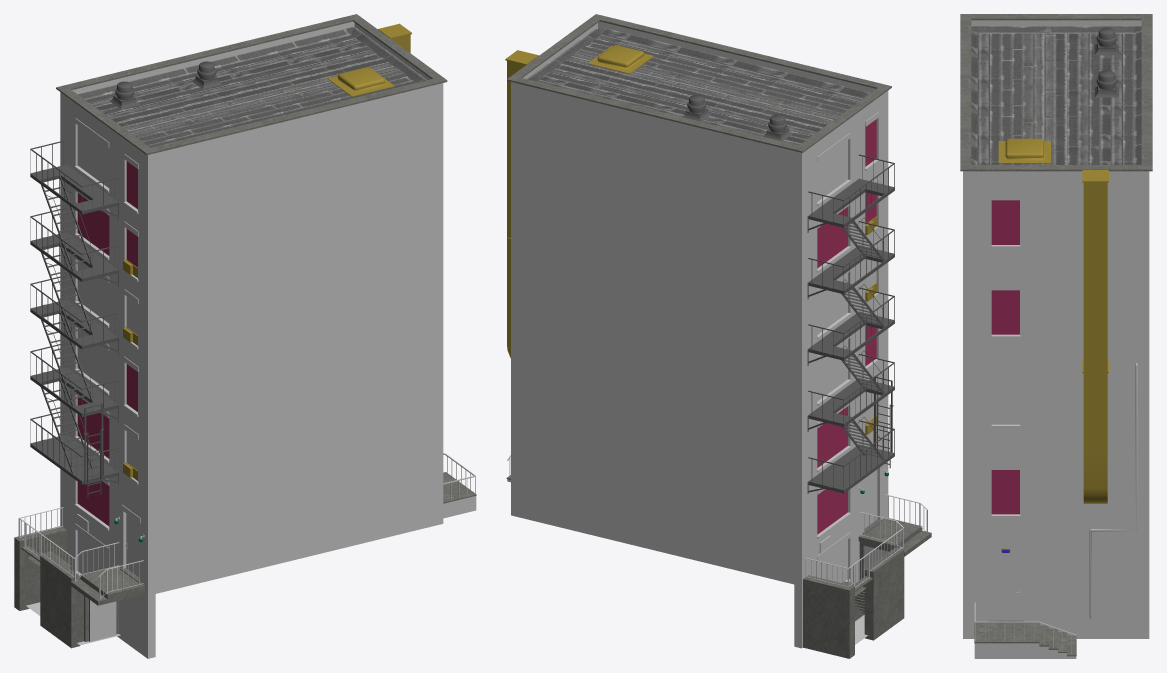
File: mcp_building_14_LOD_0.FBX
3 views of the same model, side by side, from view 1: azimuth 30°, elevation 25°; view 2: azimuth 150°, elevation 25°; view 3: azimuth 270°, elevation 25° (orthographic). The views are drawn at different scales.
Parts seen in each view (by area): view 1: mcp_building_14_walls, mcp_building_14_roof, mcp_building_14_concrete_01, mcp_building_14_props_01, mcp_building_14, mcp_building_14_concrete_02, mcp_building_14_metal, mcp_building_14_props_02, mcp_building_14_props_03; view 2: mcp_building_14_walls, mcp_building_14_roof, mcp_building_14_concrete_01, mcp_building_14_props_01, mcp_building_14, mcp_building_14_props_02, mcp_building_14_concrete_02, mcp_building_14_metal, mcp_building_14_props_03; view 3: mcp_building_14_walls, mcp_building_14_roof, mcp_building_14_props_02, mcp_building_14_concrete_01, mcp_building_14, mcp_building_14_door, mcp_building_14_props_03, mcp_building_14_pipes, mcp_building_14_concrete_03, mcp_building_14_metal.
Boxes of the visible parts, bbox=[...] form: mcp_building_14_walls: bbox=[60, 21, 443, 658]; mcp_building_14_roof: bbox=[78, 26, 427, 147]; mcp_building_14_concrete_01: bbox=[14, 14, 476, 648]; mcp_building_14_props_01: bbox=[30, 140, 118, 497]; mcp_building_14: bbox=[77, 125, 144, 641]; mcp_building_14_concrete_02: bbox=[74, 118, 140, 575]; mcp_building_14_metal: bbox=[18, 453, 475, 599]; mcp_building_14_props_02: bbox=[123, 23, 411, 480]; mcp_building_14_props_03: bbox=[109, 61, 222, 109]; mcp_building_14_walls: bbox=[511, 21, 888, 648]; mcp_building_14_roof: bbox=[527, 28, 870, 145]; mcp_building_14_concrete_01: bbox=[506, 14, 931, 658]; mcp_building_14_props_01: bbox=[807, 154, 894, 493]; mcp_building_14: bbox=[817, 119, 888, 582]; mcp_building_14_props_02: bbox=[505, 45, 877, 434]; mcp_building_14_concrete_02: bbox=[817, 111, 879, 582]; mcp_building_14_metal: bbox=[507, 455, 927, 588]; mcp_building_14_props_03: bbox=[682, 95, 792, 141]; mcp_building_14_walls: bbox=[963, 20, 1149, 638]; mcp_building_14_roof: bbox=[971, 26, 1141, 164]; mcp_building_14_props_02: bbox=[998, 138, 1108, 552]; mcp_building_14_concrete_01: bbox=[960, 14, 1152, 658]; mcp_building_14: bbox=[991, 200, 1020, 593]; mcp_building_14_door: bbox=[988, 560, 1023, 620]; mcp_building_14_props_03: bbox=[1094, 27, 1118, 97]; mcp_building_14_pipes: bbox=[1089, 363, 1137, 618]; mcp_building_14_concrete_03: bbox=[987, 245, 1024, 559]; mcp_building_14_metal: bbox=[974, 602, 1076, 654].
Bounding box in the file's own units: 1969 × 2536 × 811.
